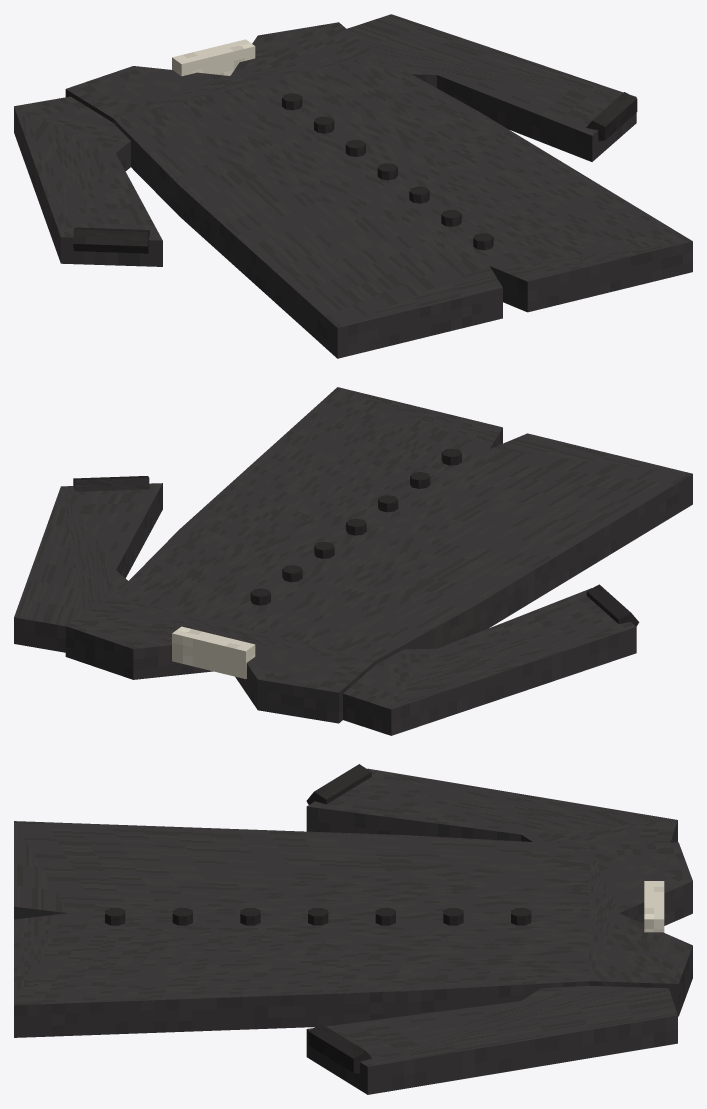
The model's file is cassock.glb.
3 renders of one model, top to bottom at view 1: azimuth 30°, elevation 25°; view 2: azimuth 150°, elevation 25°; view 3: azimuth 270°, elevation 25°, orthographic. The views are drawn at different scales.
Visible parts, largest first — view 1: block_coat body, block_sleeve (×2), block_cuff 0 (×2), block_clerical collar; view 2: block_coat body, block_sleeve (×2), block_clerical collar, block_cuff 0 (×2); view 3: block_coat body, block_sleeve (×2), block_cuff 0 (×2), block_clerical collar.
Boxes of the visible parts, x1,y1,x2,y2 form: block_coat body: (65,22,692,358); block_sleeve (×2): (14,14,636,266); block_cuff 0 (×2): (73,92,637,253); block_clerical collar: (172,39,255,76); block_coat body: (65,387,692,723); block_sleeve (×2): (14,483,636,735); block_clerical collar: (172,626,255,679); block_cuff 0 (×2): (73,476,639,626); block_coat body: (14,821,692,1037); block_sleeve (×2): (306,768,677,1094); block_cuff 0 (×2): (306,764,371,1073); block_clerical collar: (644,881,664,932).
Size of the model in its own units: 0.8122 by 0.0579 by 0.7814.
1 material, 1 textured.
